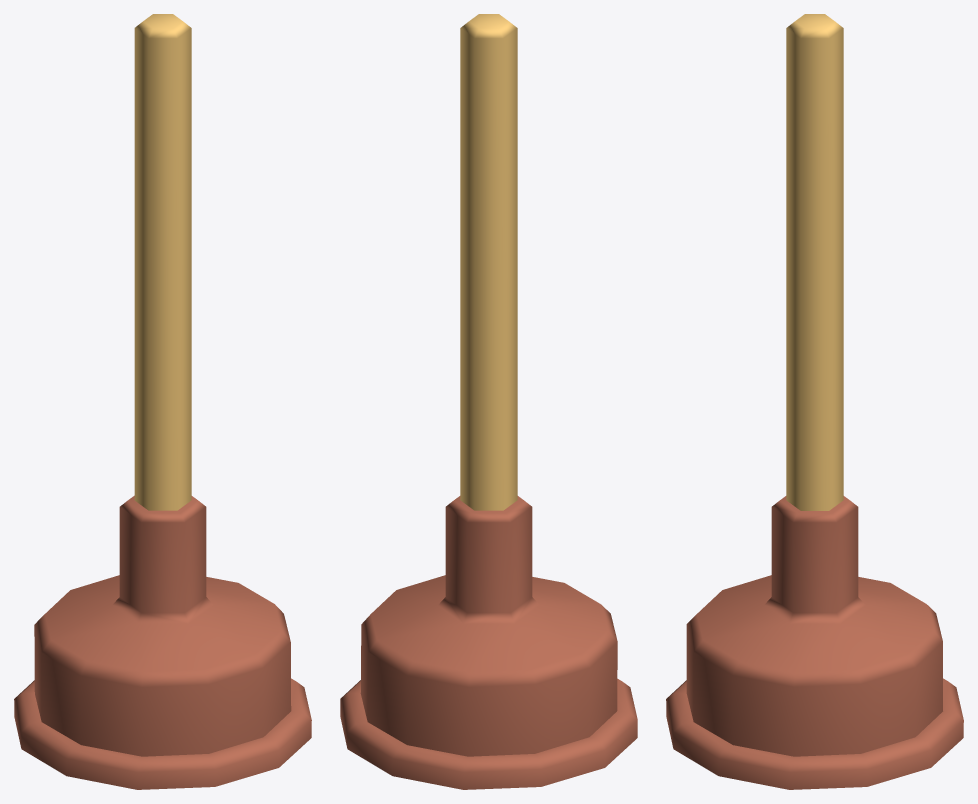
The model's file is SM_Prop_Plunger_01.obj.
3 views of the same model, side by side, from view 1: azimuth 30°, elevation 25°; view 2: azimuth 150°, elevation 25°; view 3: azimuth 270°, elevation 25° (orthographic).
Visible parts, largest first — view 1: SM_Prop_Plunger_01_M_Material; view 2: SM_Prop_Plunger_01_M_Material; view 3: SM_Prop_Plunger_01_M_Material.
Part boxes in pixels (left/top/right/bottom): SM_Prop_Plunger_01_M_Material: left=14, top=14, right=311, bottom=789; SM_Prop_Plunger_01_M_Material: left=340, top=14, right=637, bottom=789; SM_Prop_Plunger_01_M_Material: left=666, top=14, right=963, bottom=789.
Bounding box in the file's own units: 0.2606 × 0.6817 × 0.2606.
1 material, 1 textured.
